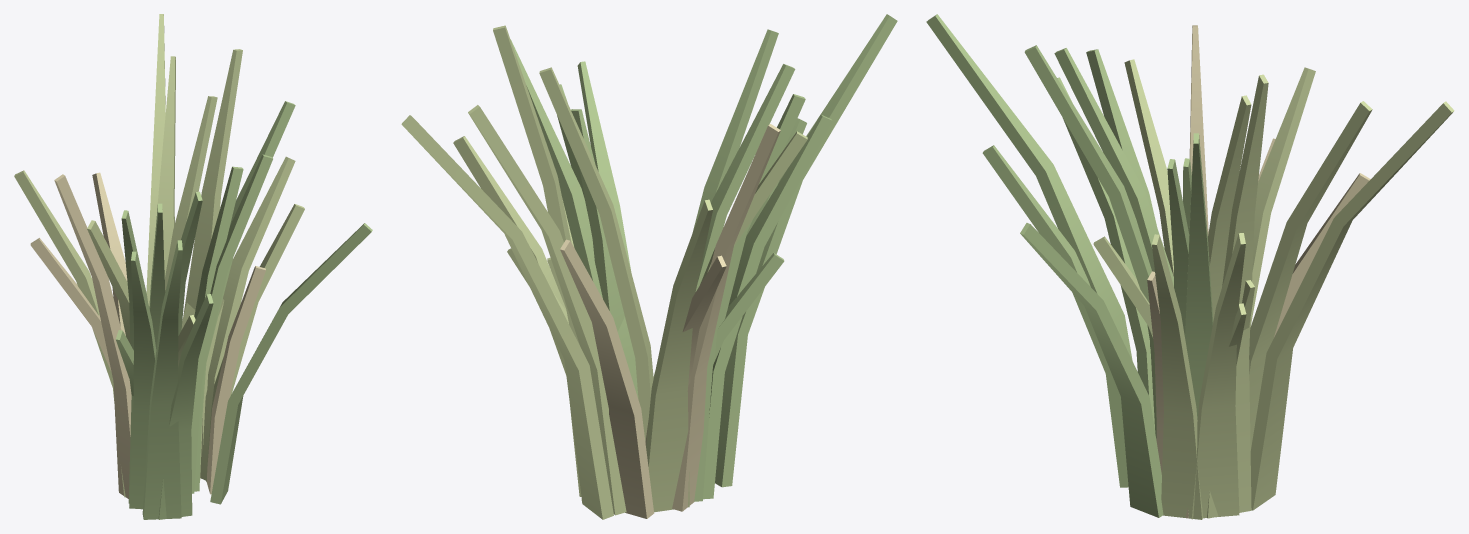
Rendered from DuneGrass.fbx.
The picture shows the model from 3 angles, left to right: view 1: azimuth 30°, elevation 25°; view 2: azimuth 150°, elevation 25°; view 3: azimuth 270°, elevation 25°; orthographic projection. The views are drawn at different scales.
Visible parts, largest first — view 1: DuneGrass; view 2: DuneGrass; view 3: DuneGrass.
Boxes of the visible parts, left/top/right/bottom form: DuneGrass: left=14, top=14, right=372, bottom=519; DuneGrass: left=401, top=14, right=897, bottom=519; DuneGrass: left=926, top=14, right=1454, bottom=519.
Size of the model in its own units: 0.5467 by 0.7992 by 0.8106.
